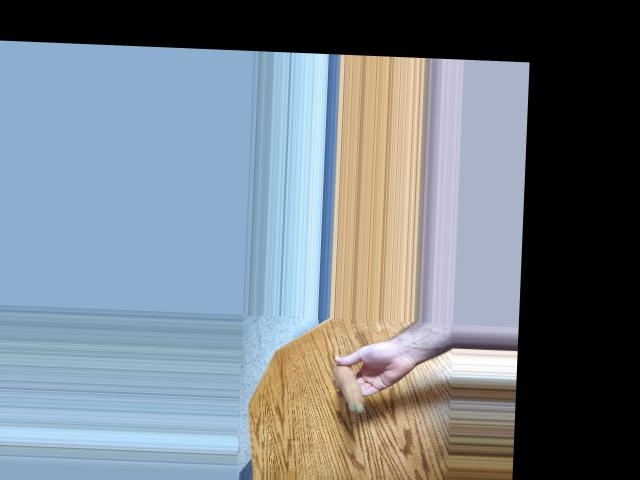sweet_potato: (332, 361, 369, 413)
